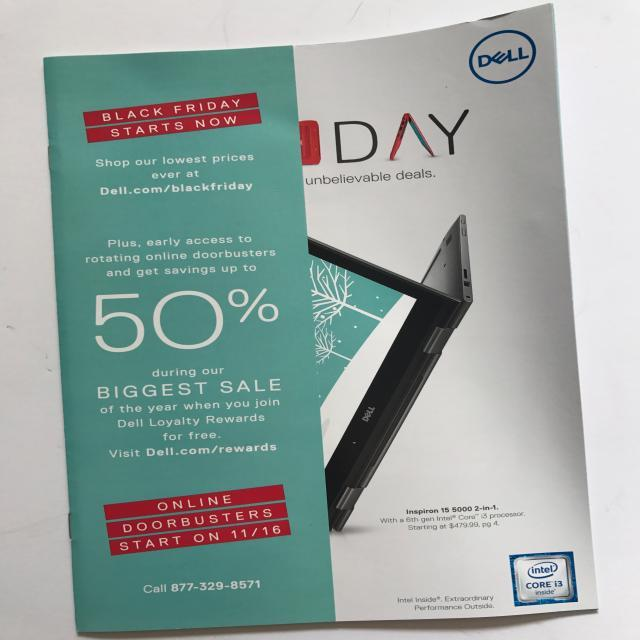paper: (42, 2, 600, 634)
